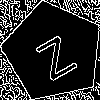Z: (28, 27, 79, 82)
